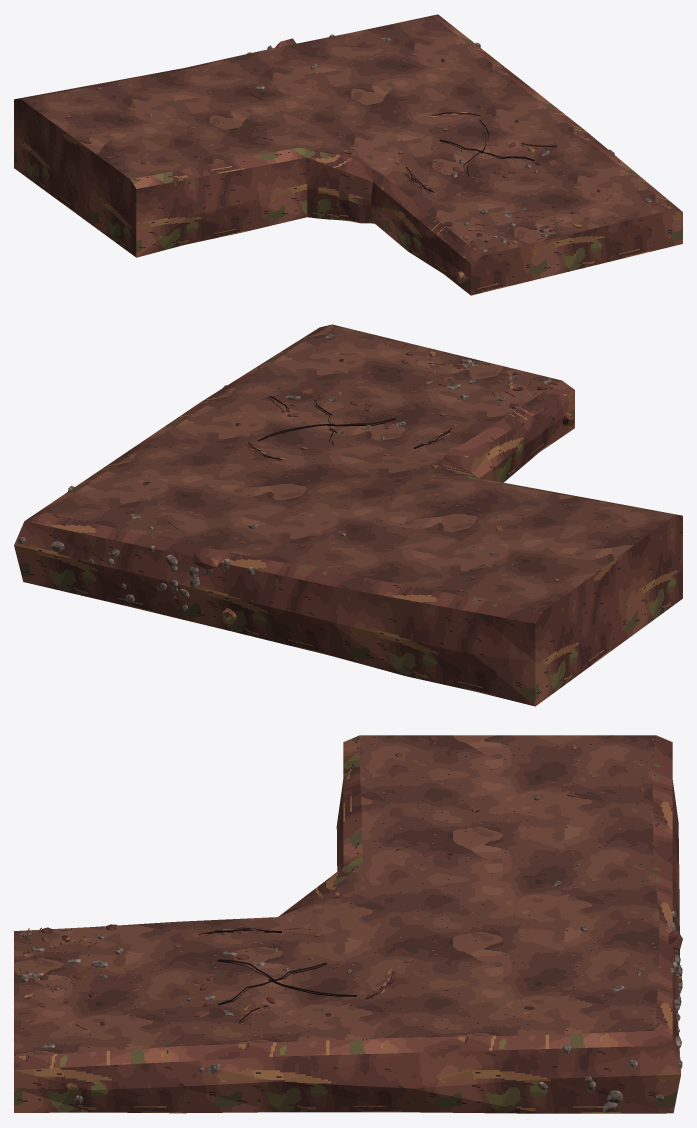
File: SM_AN08_RampTurn.fbx
The picture shows the model from 3 angles, top to bottom: view 1: azimuth 30°, elevation 25°; view 2: azimuth 150°, elevation 25°; view 3: azimuth 270°, elevation 25°; orthographic projection. The views are drawn at different scales.
Parts seen in each view (by area): view 1: AN08a_Floor, AN08a_Earth, AN08a_Props; view 2: AN08a_Floor, AN08a_Earth, AN08a_Props; view 3: AN08a_Floor, AN08a_Earth, AN08a_Props.
Part boxes in pixels (x1,y1,x2,y2): AN08a_Floor: (20,17,671,255); AN08a_Earth: (14,14,682,295); AN08a_Props: (131,34,651,252); AN08a_Floor: (46,324,675,611); AN08a_Earth: (14,324,682,706); AN08a_Props: (17,334,557,611); AN08a_Floor: (14,735,659,1056); AN08a_Earth: (14,735,682,1113); AN08a_Props: (19,794,682,1112).
Bounding box in the file's own units: 6.1 × 1.01 × 6.09.
